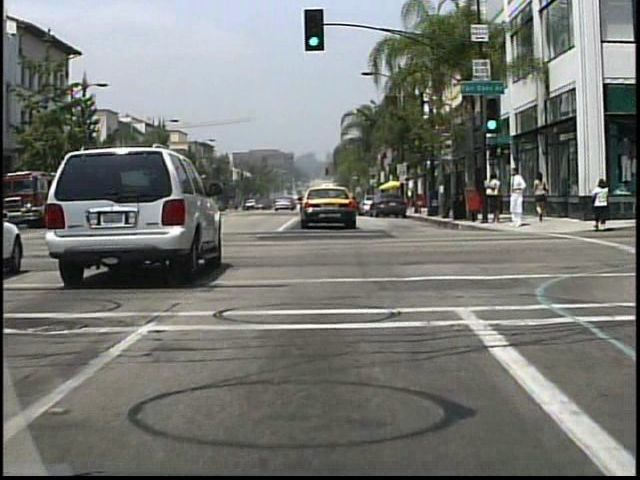person: (507, 169, 527, 229), (590, 178, 609, 232), (533, 172, 551, 224), (487, 170, 502, 228), (405, 189, 415, 214)
